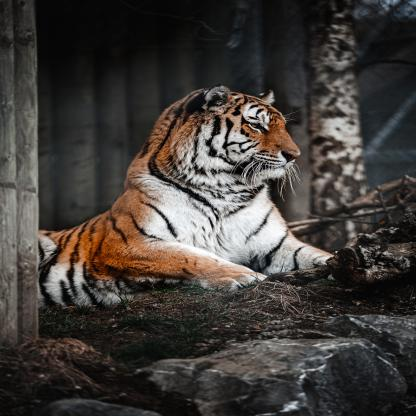Panthera tigris: (39, 84, 338, 308)
